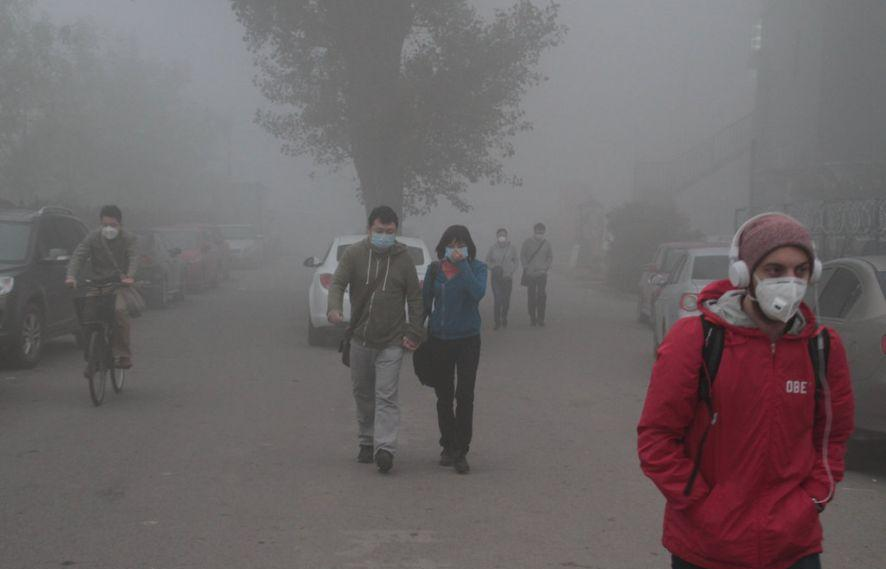bicycle: (65, 277, 135, 407)
car: (760, 250, 886, 465), (3, 198, 113, 369), (643, 243, 786, 366), (300, 232, 436, 349), (104, 222, 184, 307), (636, 237, 703, 329), (150, 219, 230, 294), (202, 221, 267, 273)
person: (632, 208, 854, 569), (325, 204, 421, 473), (405, 222, 487, 476), (64, 202, 140, 379), (517, 221, 553, 329), (482, 227, 516, 328)
